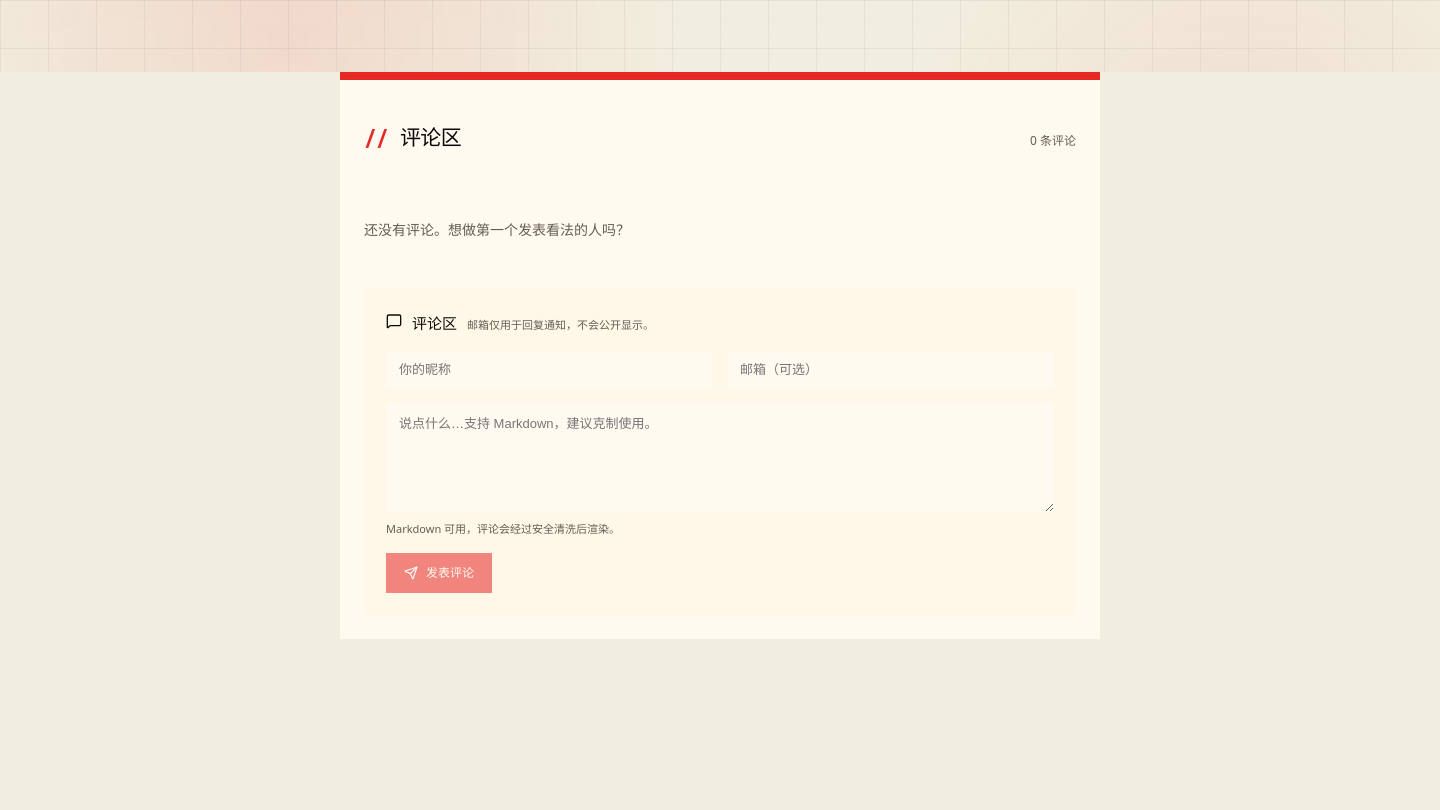
PostComments 评论区 › 填写昵称与内容后可提交评论并刷新列表
The width and height of the screenshot is (1440, 810).
Type "bob" into the field with placeholder "你的昵称".
click(550, 370); type("bob")  # box [386,351,713,388]
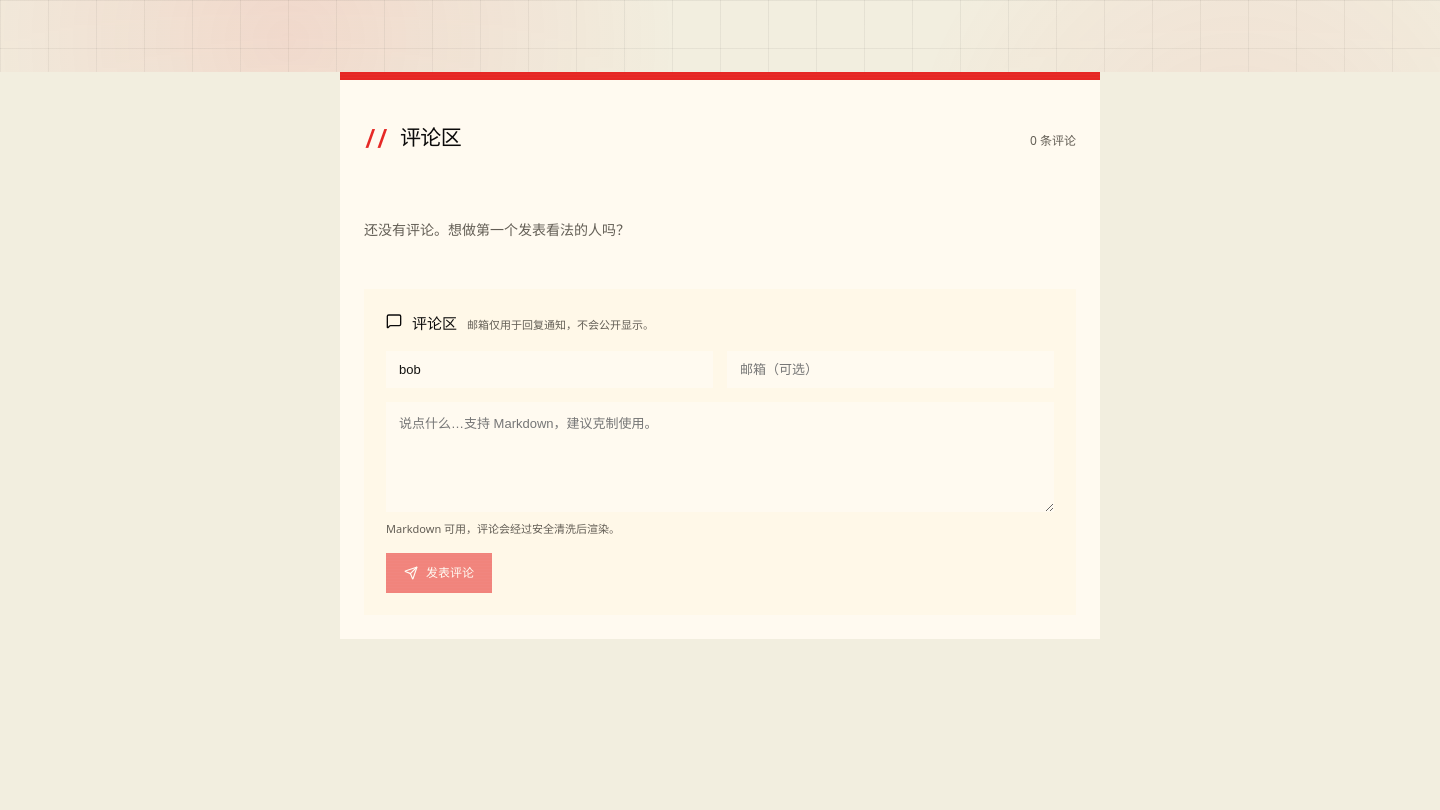
Type "first!" into the text box with placeholder "说点什么…支持 Markdown，建议克制使用。".
click(720, 457); type("first!")  # box [386,402,1054,512]
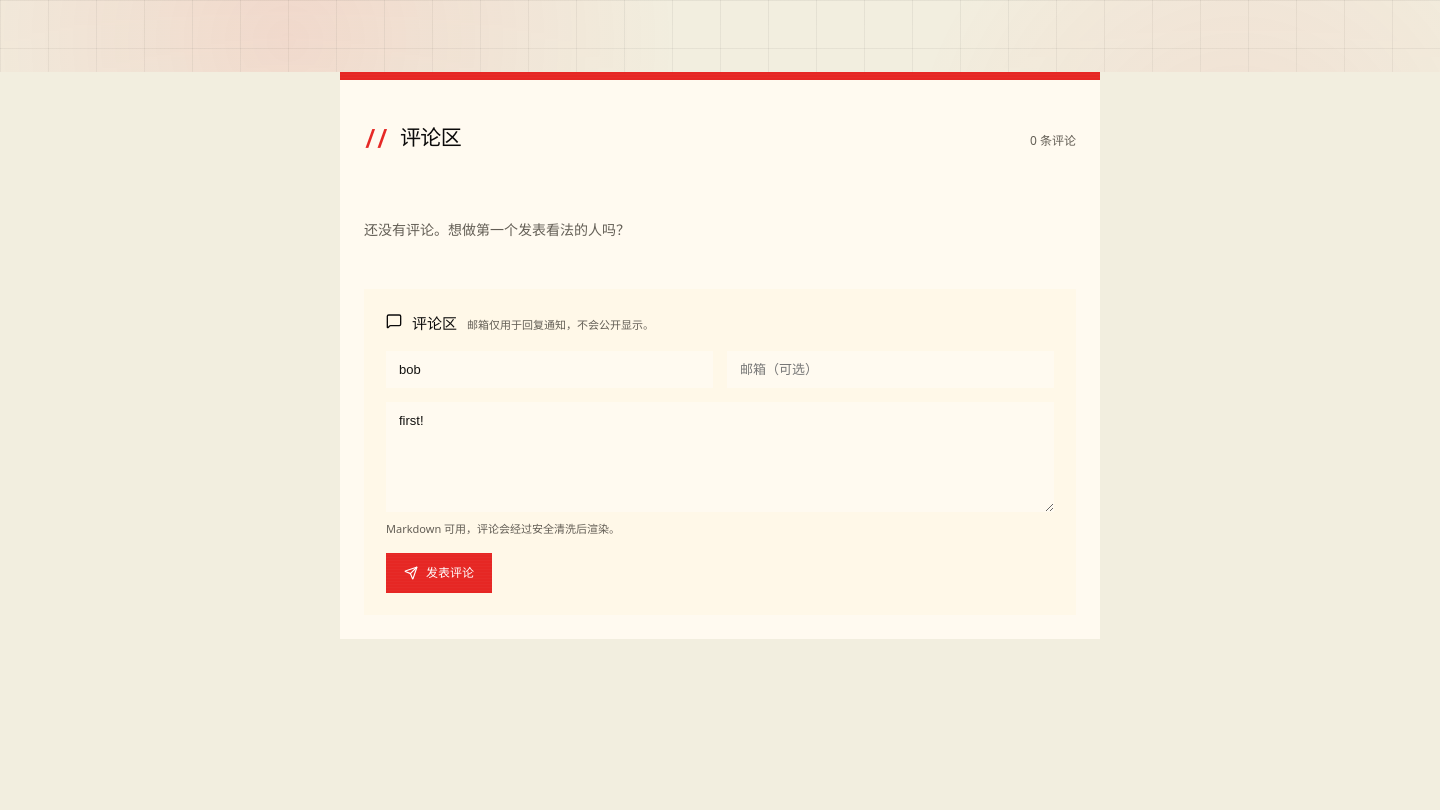
Submit the form, box [364,290,1076,615]
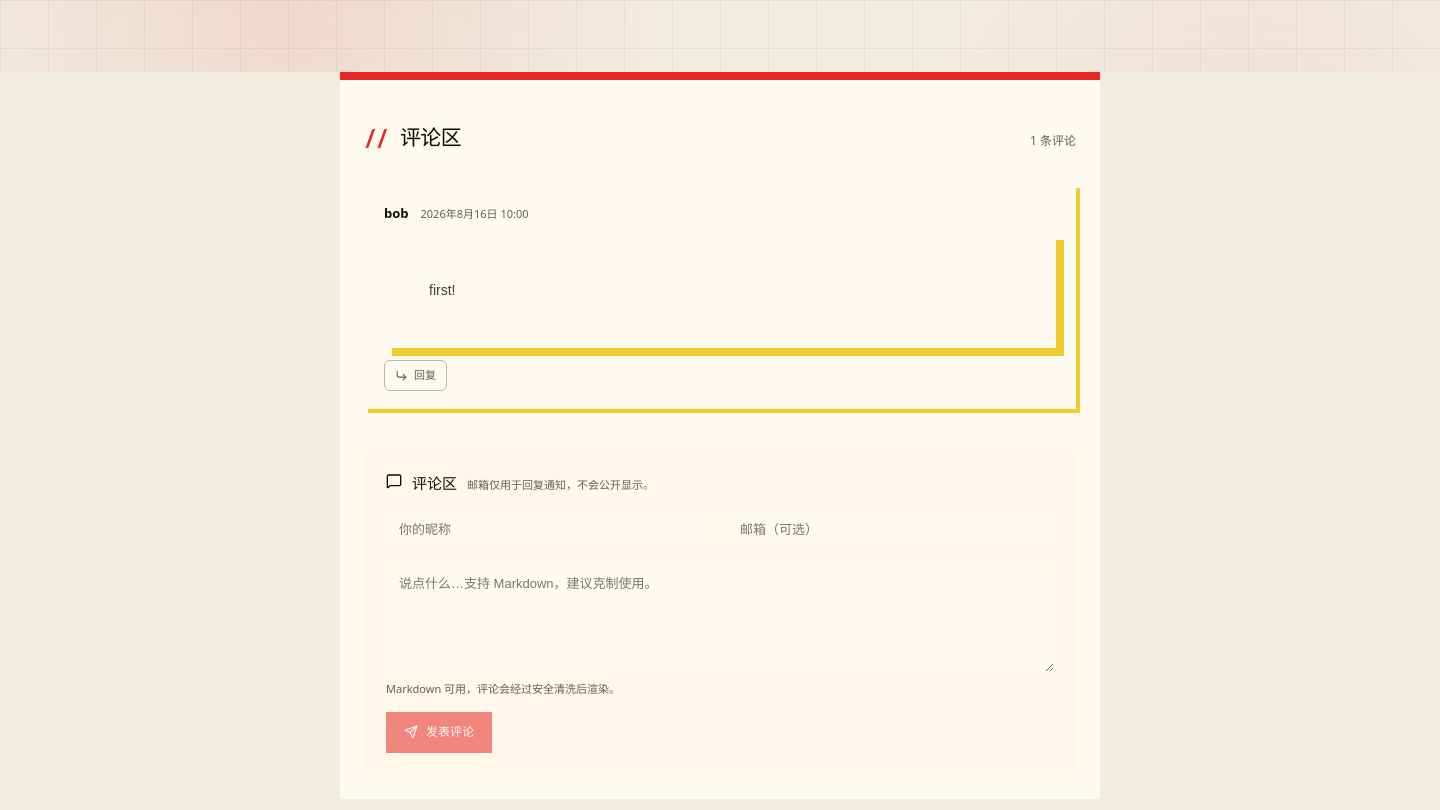
Result: the text with class "comment-author" reads "bob" at [384,204,408,222]
